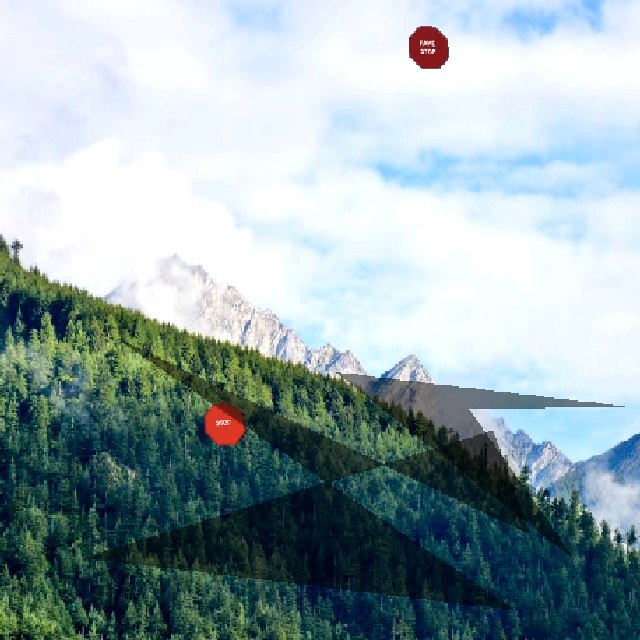FAKE_STOP: (406, 25, 448, 68)
STOP: (202, 401, 245, 444)
